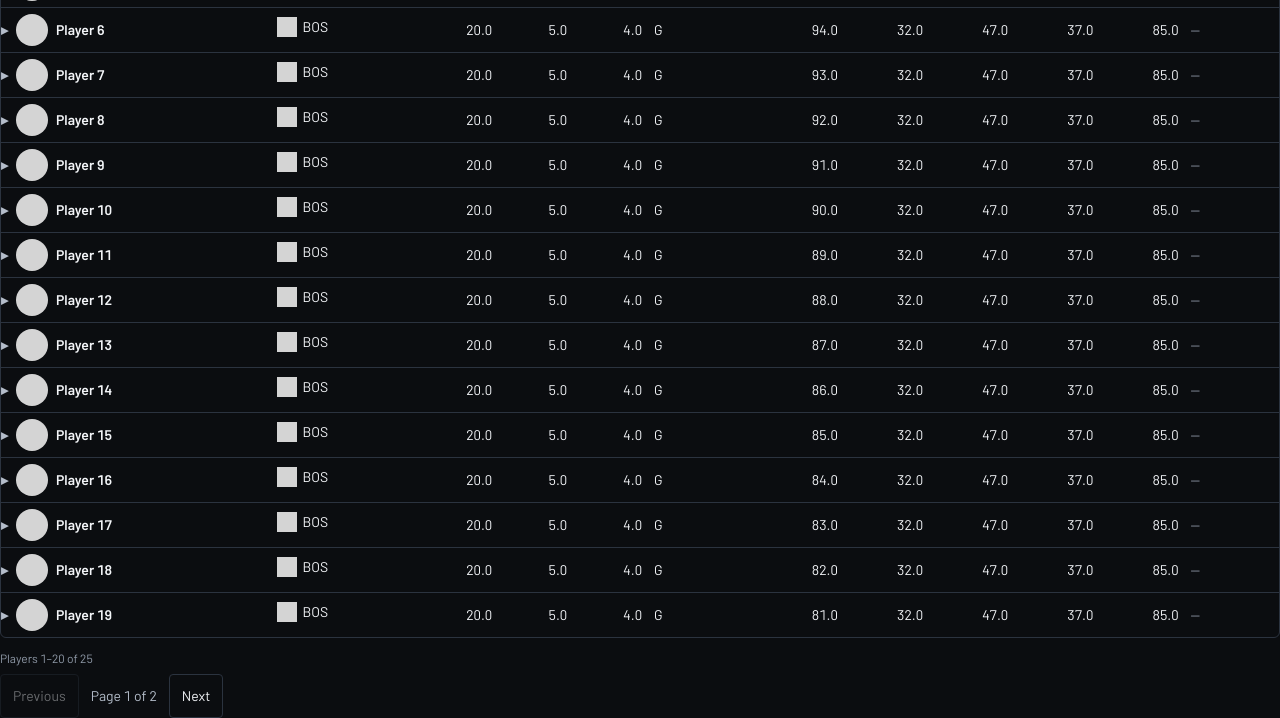
it: PlayerHubPanel › shows the first 20 players and paginates to the next page
(page scrolled)
Expected: the text "Player 20" is not shown
Click the button with test id "player-hub-next" at (196, 696), box x1=169 y1=674 x2=223 y2=717
(page scrolled)
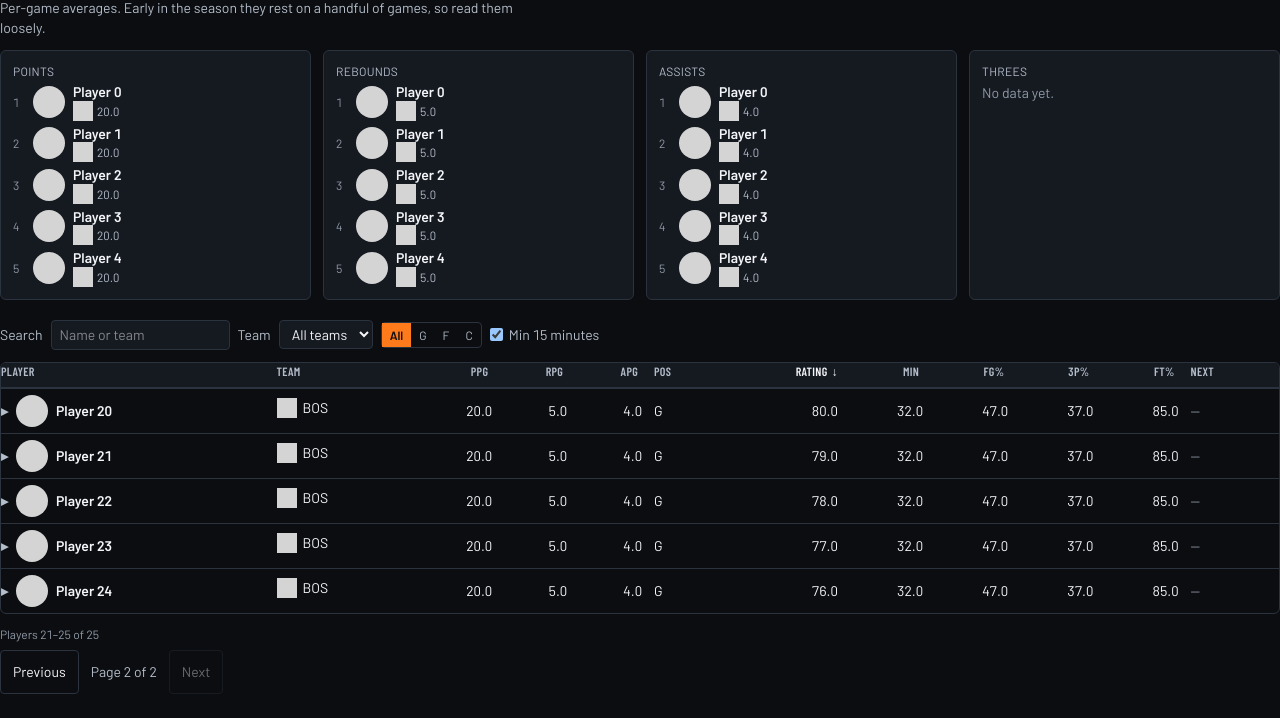
Result: the text "Player 20" is shown at x1=16 y1=394 x2=112 y2=426
